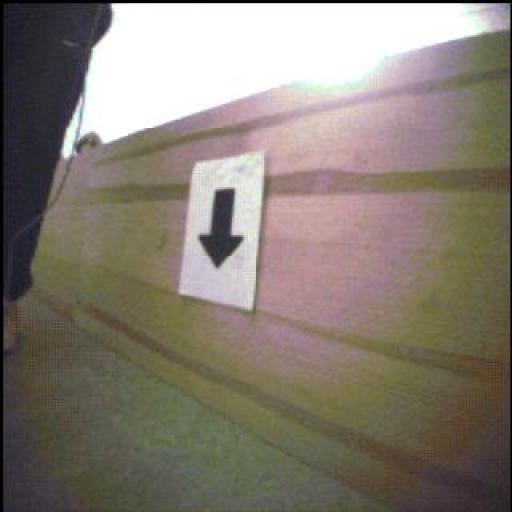arrow: (200, 190, 245, 268)
